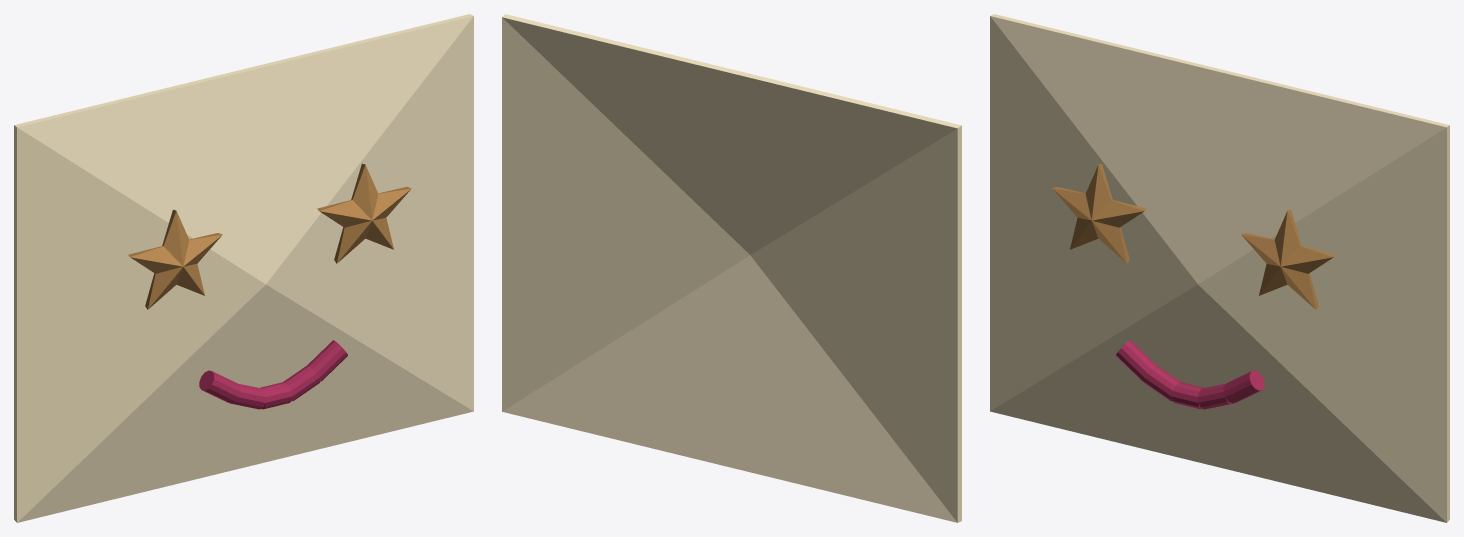
The model's file is Face_emote_crown.fbx.
The picture shows the model from 3 angles, left to right: view 1: azimuth 30°, elevation 25°; view 2: azimuth 150°, elevation 25°; view 3: azimuth 330°, elevation 25°; orthographic projection.
Parts seen in each view (by area): view 1: Face_emote_crown.Mesh; view 2: Face_emote_crown.Mesh; view 3: Face_emote_crown.Mesh.
Boxes of the visible parts, left/top/right/bottom form: Face_emote_crown.Mesh: left=14, top=14, right=473, bottom=522; Face_emote_crown.Mesh: left=502, top=14, right=961, bottom=522; Face_emote_crown.Mesh: left=990, top=14, right=1449, bottom=522.
Bounding box in the file's own units: 58 × 48 × 8.19.
